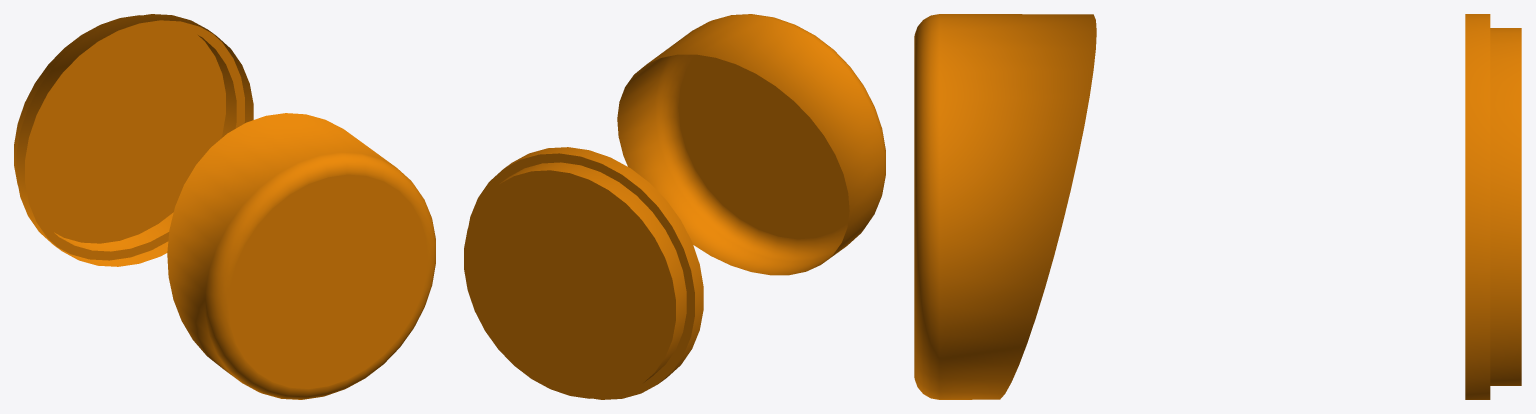
3 renders of one model, left to right at view 1: azimuth 30°, elevation 25°; view 2: azimuth 150°, elevation 25°; view 3: azimuth 270°, elevation 25°, orthographic. The views are drawn at different scales.
Bounding box in the file's own units: 0.0766 × 0.0766 × 0.1203.
